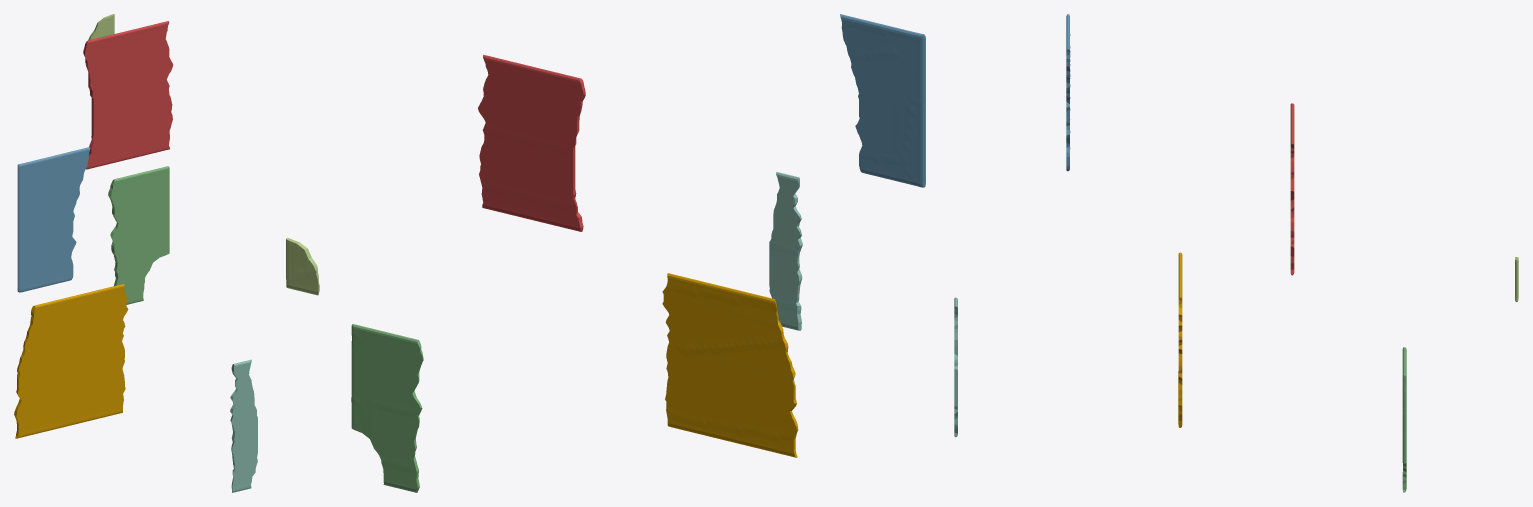
File: fractured_75_6pcs_transformed.glb
3 views of the same model, side by side, from view 1: azimuth 30°, elevation 25°; view 2: azimuth 150°, elevation 25°; view 3: azimuth 270°, elevation 25° (orthographic). The views are drawn at different scales.
Parts seen in each view (by area): view 1: piece_0.obj, piece_1.obj, piece_2.obj, piece_3.obj, piece_4.obj, piece_5.obj; view 2: piece_0.obj, piece_1.obj, piece_2.obj, piece_3.obj, piece_4.obj, piece_5.obj; view 3: piece_0.obj, piece_1.obj, piece_3.obj, piece_2.obj.
Part boxes in pixels (x1,y1,x2,y2): piece_0.obj: [14, 284, 128, 438]; piece_1.obj: [83, 21, 173, 169]; piece_2.obj: [17, 147, 90, 292]; piece_3.obj: [108, 166, 169, 304]; piece_4.obj: [230, 359, 257, 492]; piece_5.obj: [88, 14, 114, 40]; piece_0.obj: [662, 273, 798, 457]; piece_1.obj: [478, 54, 585, 231]; piece_2.obj: [840, 14, 925, 187]; piece_3.obj: [351, 324, 423, 492]; piece_4.obj: [769, 172, 802, 330]; piece_5.obj: [286, 238, 319, 295]; piece_0.obj: [1178, 252, 1182, 427]; piece_1.obj: [1290, 103, 1294, 275]; piece_3.obj: [1402, 347, 1406, 492]; piece_2.obj: [1066, 14, 1070, 171].
Size of the model in its own units: 1 by 0.9885 by 1.51.
